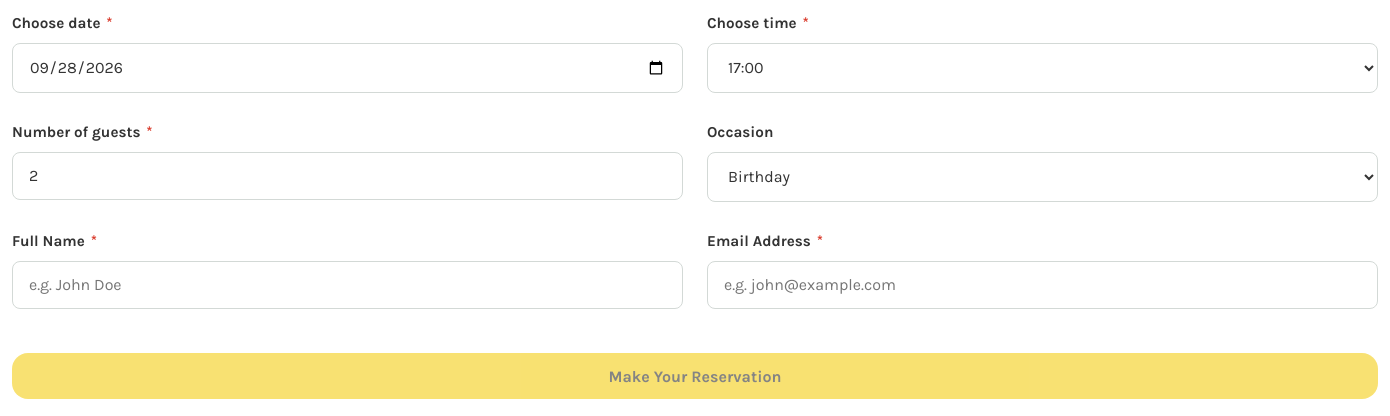
Test case: Form validation logic › submit button is enabled when fields are valid
Type "John Doe" into the field labelled "Full Name *" at {"x": 348, "y": 285}, box [12,261,683,309]
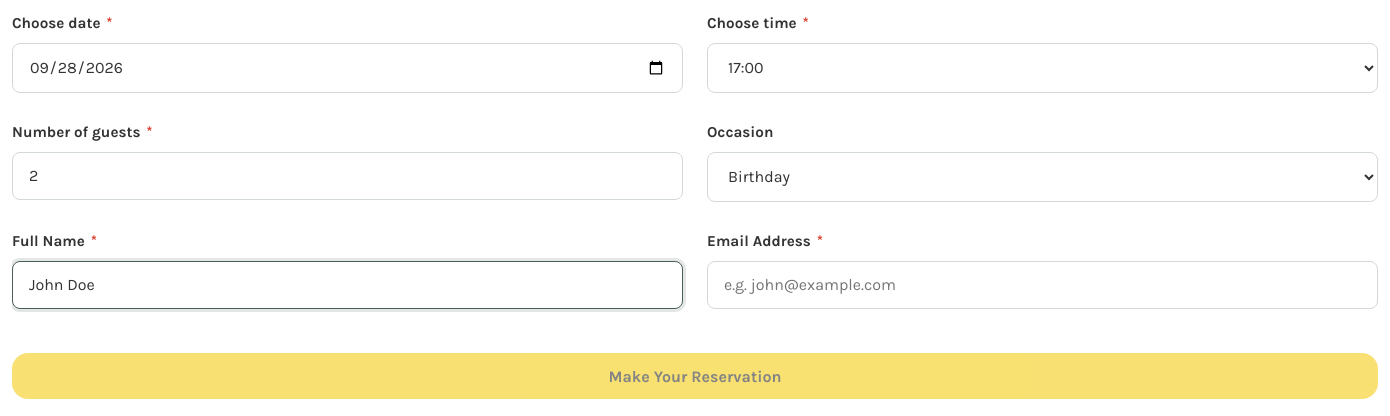
Type "john@example.com" into the field labelled "Email Address *" at {"x": 1042, "y": 285}, box [707,261,1378,309]
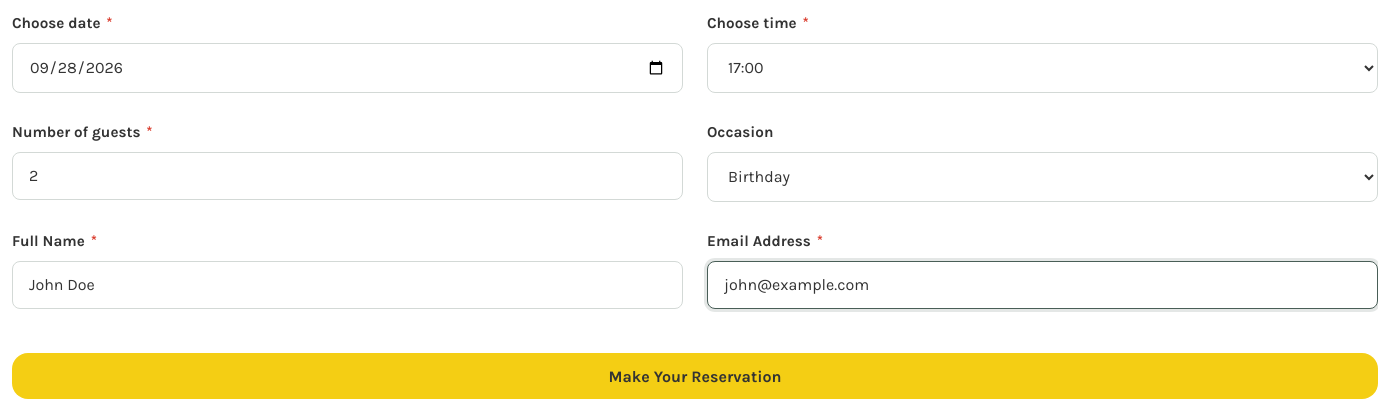
Check: the button with aria-label "confirm table reservation" is enabled, box [12,353,1378,399]
